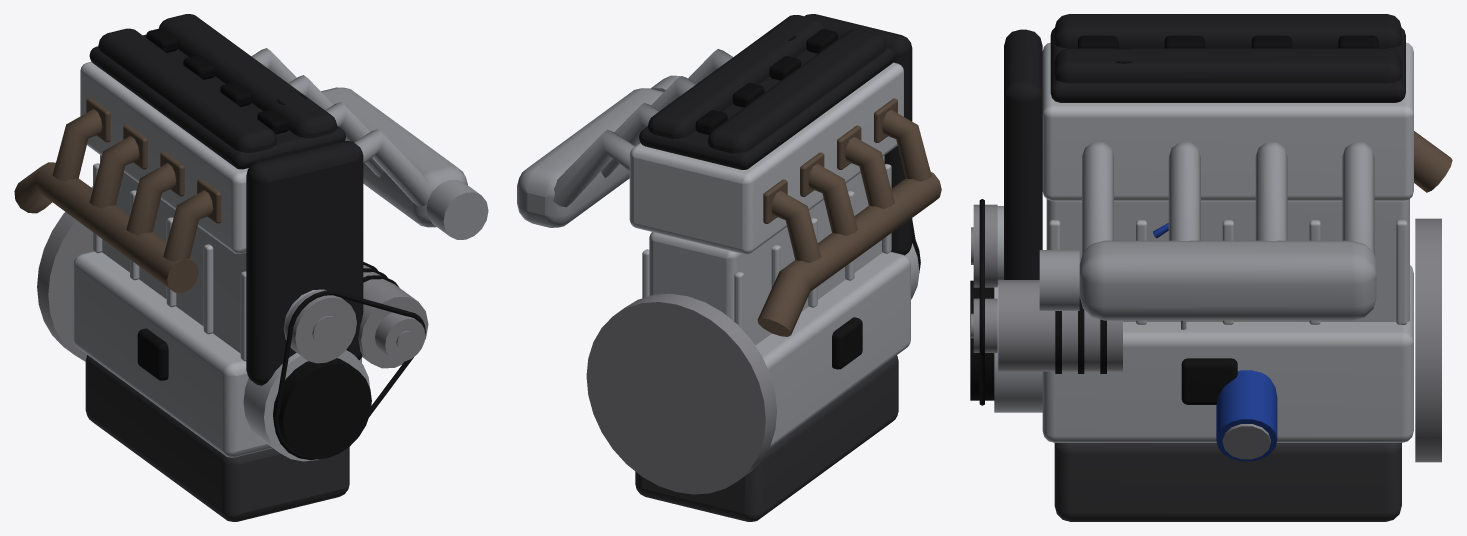
The model's file is toyota_a25a_fks_gen.glb.
The picture shows the model from 3 angles, left to right: view 1: azimuth 30°, elevation 25°; view 2: azimuth 150°, elevation 25°; view 3: azimuth 270°, elevation 25°; orthographic projection. The views are drawn at different scales.
Visible parts, largest first — view 1: toyota_a25a_fks_gen; view 2: toyota_a25a_fks_gen; view 3: toyota_a25a_fks_gen.
Boxes of the visible parts, <box> form: toyota_a25a_fks_gen: <box>14,14,488,521</box>; toyota_a25a_fks_gen: <box>517,14,941,521</box>; toyota_a25a_fks_gen: <box>970,14,1452,521</box>.
Bounding box in the file's own units: 0.5194 × 0.6224 × 0.6003.
